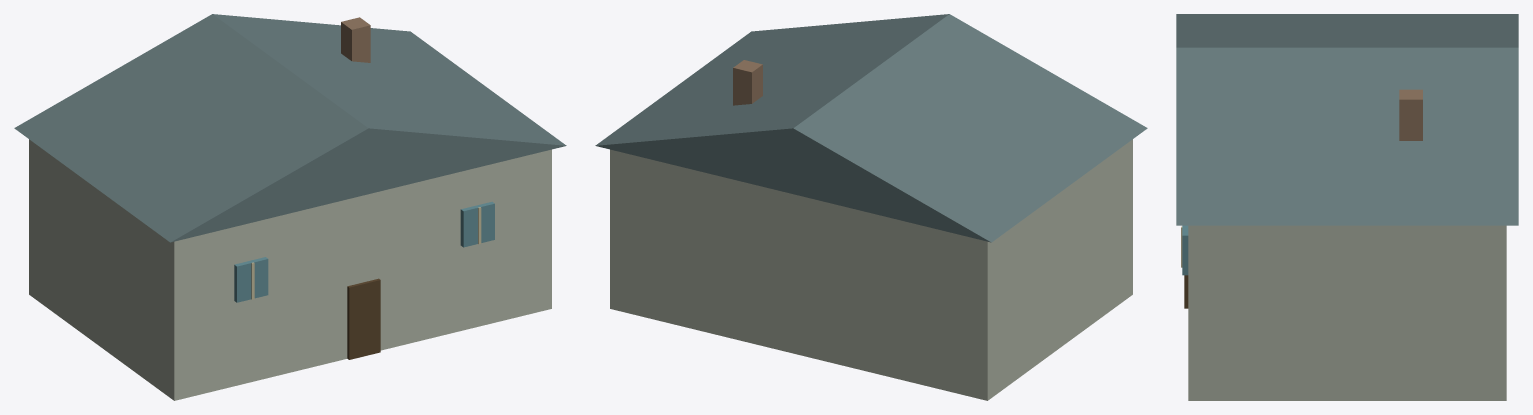
Rendered from hall.gltf.
3 views of the same model, side by side, from view 1: azimuth 30°, elevation 25°; view 2: azimuth 150°, elevation 25°; view 3: azimuth 270°, elevation 25° (orthographic). The views are drawn at different scales.
Bounding box in the file's own units: 12.6 × 7.1 × 8.6.
